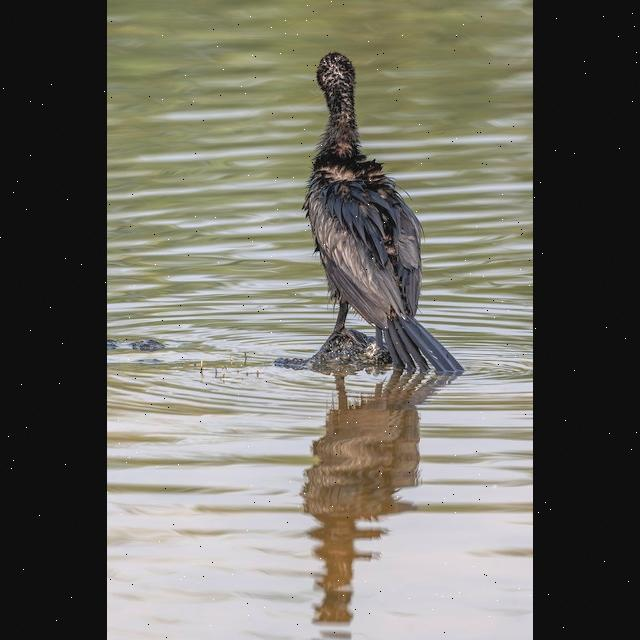cormorant: (296, 35, 462, 401)
